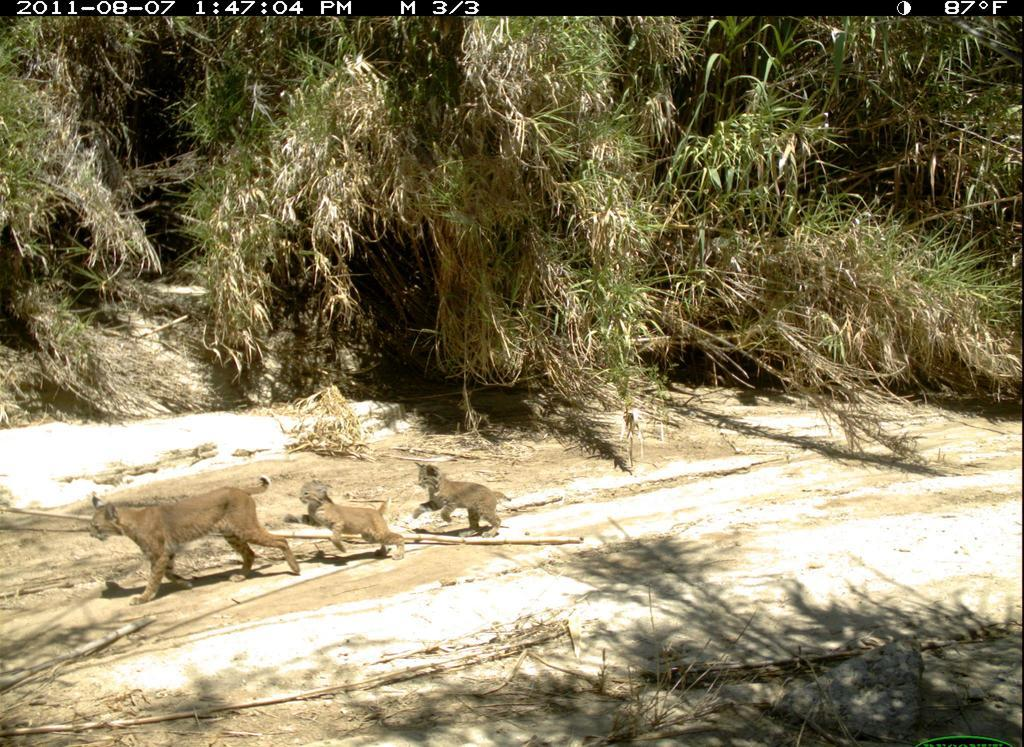bobcat: (80, 475, 306, 609), (413, 452, 518, 545), (298, 484, 411, 569)
